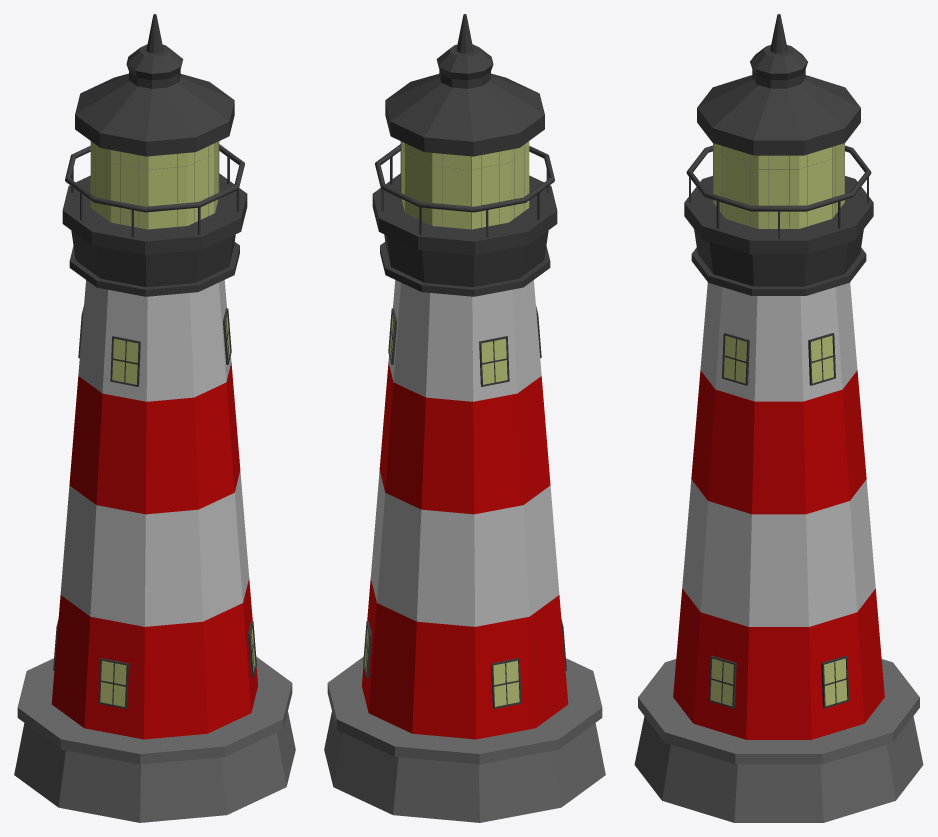
The model's file is lighthouse.fbx.
3 views of the same model, side by side, from view 1: azimuth 30°, elevation 25°; view 2: azimuth 150°, elevation 25°; view 3: azimuth 270°, elevation 25° (orthographic).
Parts seen in each view (by area): view 1: Circle; view 2: Circle; view 3: Circle.
Boxes of the visible parts, <box> form: Circle: <box>14,14,295,822</box>; Circle: <box>324,14,605,822</box>; Circle: <box>634,14,923,822</box>.
Bounding box in the file's own units: 0.3321 × 1 × 0.3491.
